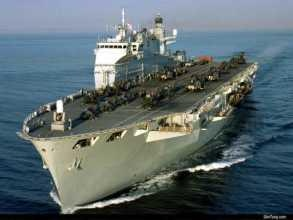warship: (13, 7, 260, 203)
